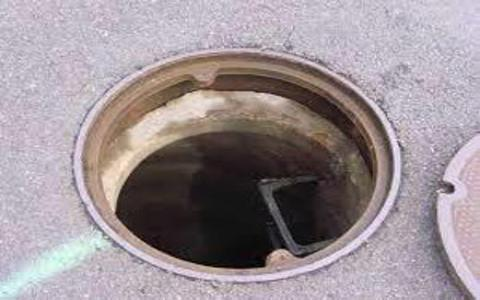open manhole: (52, 1, 414, 282)
